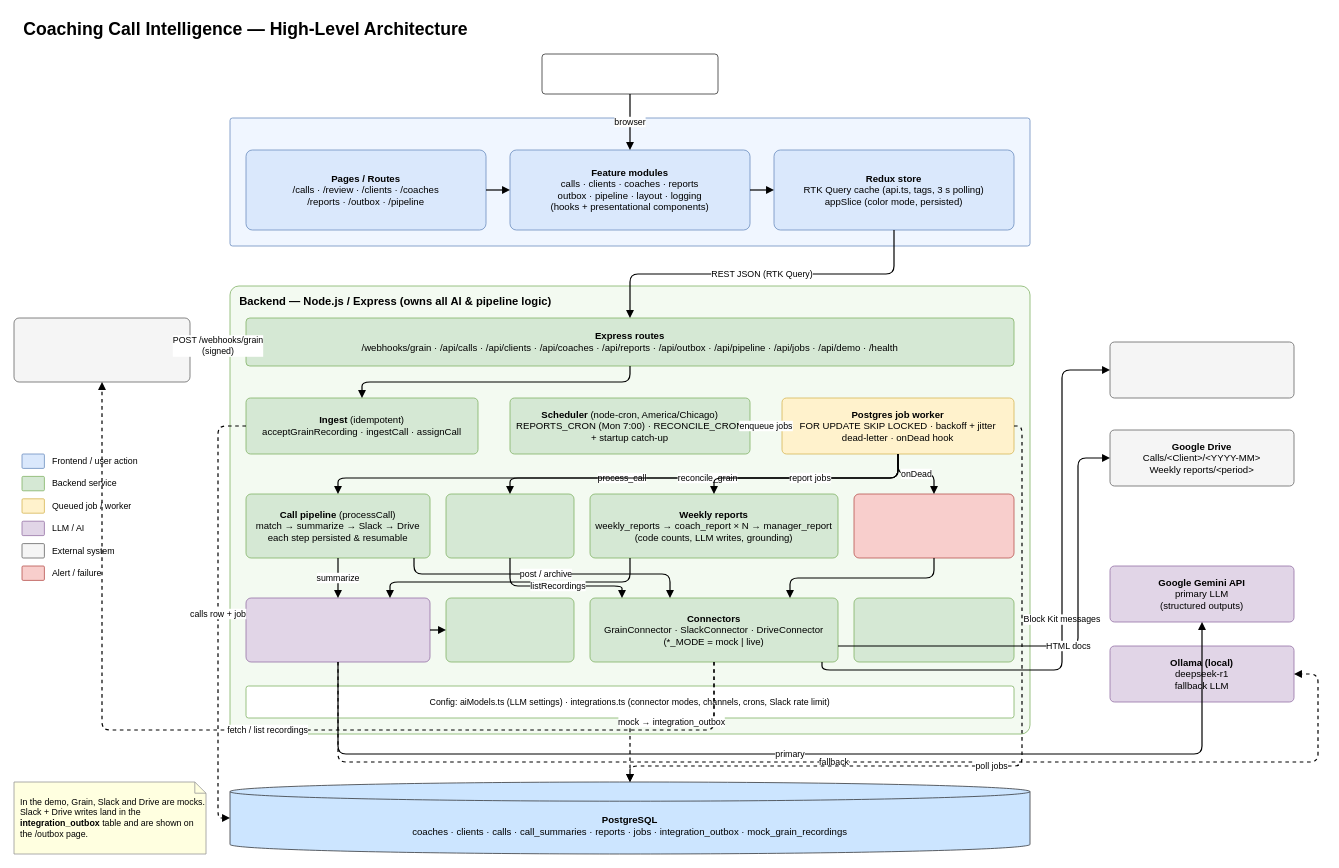
This 1339x868 diagram has some shape labels left out. Each missing label, with the box of its shape:
Frontend — React + TypeScript (Vite, Chakra UI, Redux Toolkit, React Router): (229, 117, 1030, 246)
Grain call recordings + transcripts (mock: sampleCalls.ts): (13, 317, 190, 382)
LLM service generateStructured() zod-validated, 1 repair retry: (245, 597, 430, 662)
Logger createLogger(scope) withLogContext(jobId, callId, runId): (853, 597, 1014, 662)
Ops alerts dead jobs · review calls partial runs · recovered: (853, 493, 1014, 558)
Rate limits token buckets Gemini · Slack 1 msg/s: (445, 597, 574, 662)
Reconcile reconcile_grain (48 h lookback): (445, 493, 574, 558)
Slack client channels · coach DMs manager & ops channels: (1109, 341, 1294, 398)
Users Coaches · Managers · Ops: (541, 53, 718, 94)
